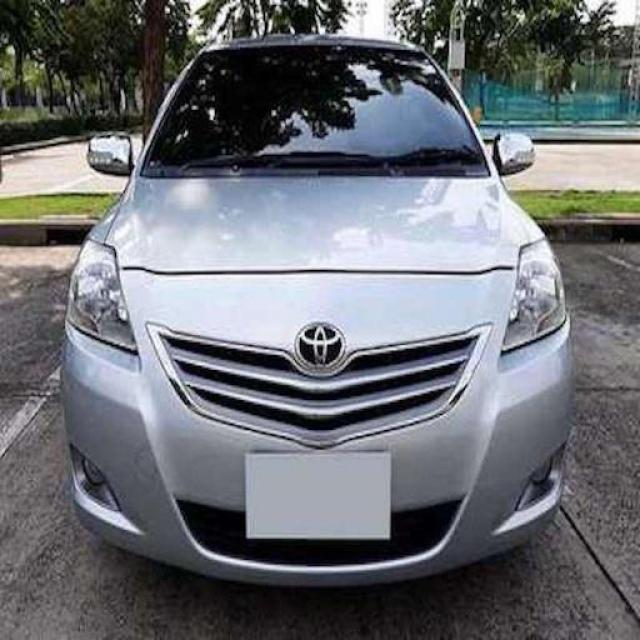front_bumper: (61, 267, 574, 584)
front_glass: (139, 45, 494, 179)
front_left_light: (502, 238, 567, 357)
front_right_light: (67, 238, 140, 356)
hood: (104, 177, 529, 273)
left_mirror: (494, 132, 535, 177)
right_mirror: (86, 131, 132, 179)
